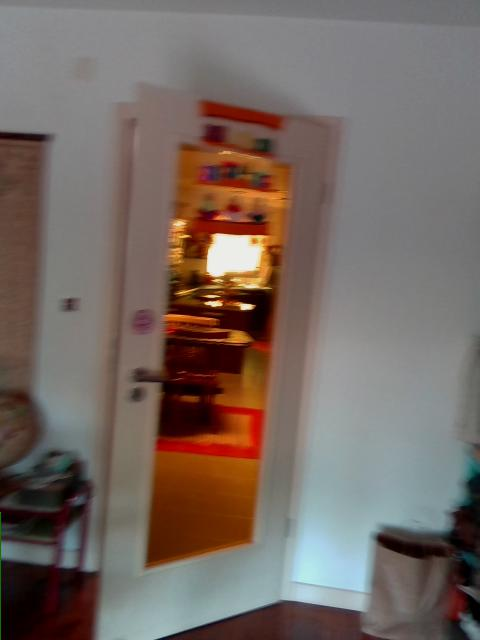semi_door: (79, 79, 346, 638)
